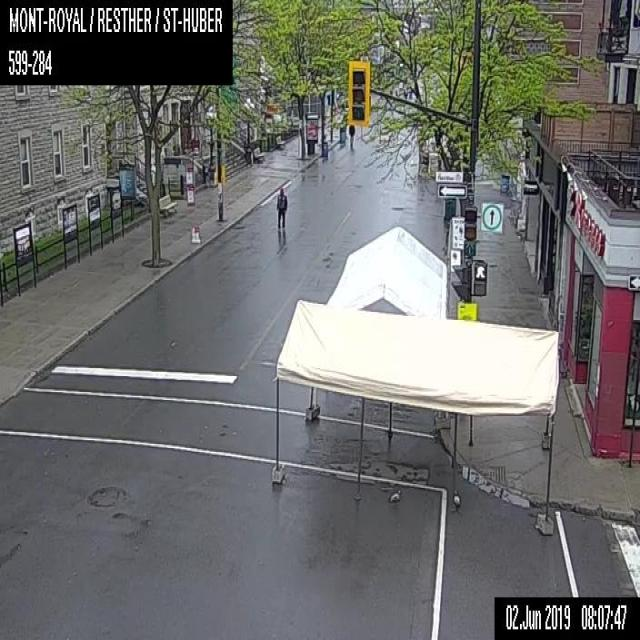pedestrian: (275, 187, 287, 229), (348, 124, 354, 148)
